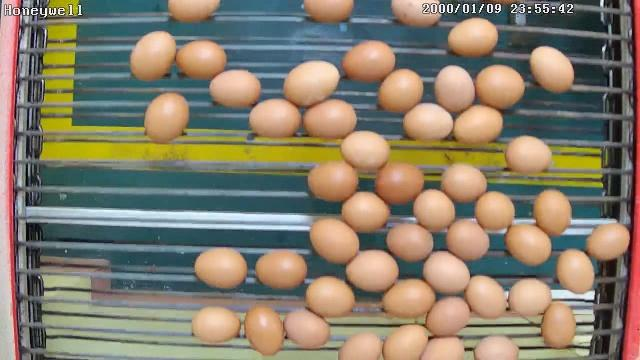egg: (282, 61, 341, 108), (127, 28, 176, 84), (307, 216, 361, 266), (344, 247, 399, 294), (142, 91, 190, 144), (302, 98, 358, 143), (379, 276, 436, 320), (193, 246, 247, 292), (341, 39, 396, 84), (243, 301, 286, 358), (528, 44, 576, 95), (474, 63, 526, 110), (248, 96, 303, 140), (503, 220, 553, 268), (372, 160, 423, 207), (304, 275, 356, 321), (446, 16, 500, 60), (306, 159, 360, 203), (422, 247, 470, 296), (339, 190, 390, 236), (255, 248, 308, 292), (452, 102, 503, 147), (208, 68, 262, 110), (502, 134, 554, 177), (175, 40, 228, 82), (444, 216, 492, 262), (376, 68, 424, 114), (340, 128, 390, 172), (433, 63, 476, 114), (402, 102, 454, 144), (463, 272, 508, 320), (438, 162, 489, 204), (385, 220, 436, 262), (283, 306, 331, 350), (190, 304, 242, 344), (506, 275, 554, 318), (540, 297, 578, 351), (556, 246, 597, 296), (532, 187, 572, 238), (412, 188, 458, 232), (473, 188, 517, 233), (426, 294, 470, 339), (586, 221, 630, 263), (380, 324, 429, 360), (390, 0, 444, 29), (164, 0, 221, 23), (302, 1, 354, 23)
